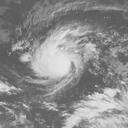cyclone: (23, 23, 86, 91)
